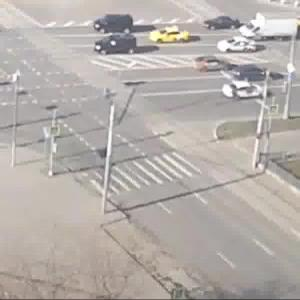car: (249, 13, 300, 46), (85, 34, 140, 58), (147, 25, 192, 48), (221, 66, 275, 84), (92, 11, 134, 32), (226, 81, 275, 99), (223, 36, 262, 54), (205, 21, 247, 36), (198, 57, 227, 74)
